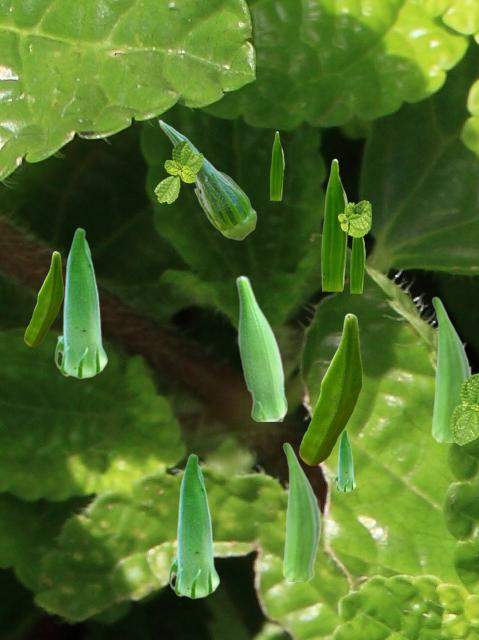okra: (158, 119, 256, 239), (299, 313, 361, 464), (54, 227, 107, 378), (235, 275, 286, 420), (168, 453, 219, 598), (431, 296, 471, 441), (282, 442, 320, 580), (24, 251, 62, 345), (321, 158, 348, 290), (334, 429, 355, 491), (270, 131, 283, 199), (350, 237, 364, 292)
